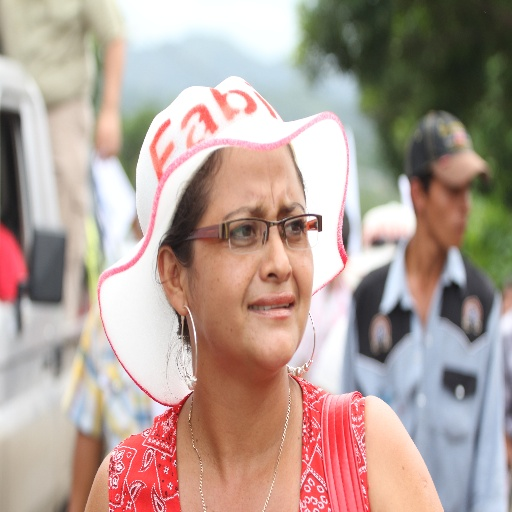hand: (93, 106, 122, 155)
